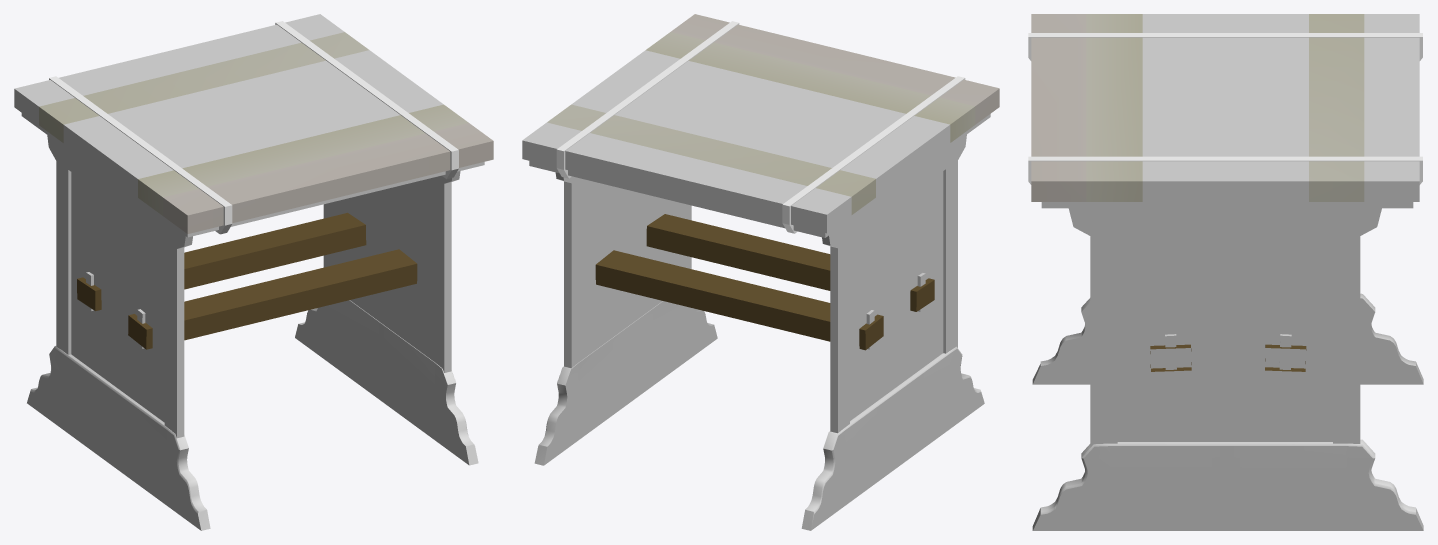
Rendered from table.glb.
The picture shows the model from 3 angles, left to right: view 1: azimuth 30°, elevation 25°; view 2: azimuth 150°, elevation 25°; view 3: azimuth 270°, elevation 25°; orthographic projection. The views are drawn at different scales.
Visible parts, largest first — view 1: Table_Large; view 2: Table_Large; view 3: Table_Large.
Part boxes in pixels (left/top/right/bottom): Table_Large: left=14, top=14, right=493, bottom=530; Table_Large: left=522, top=14, right=999, bottom=530; Table_Large: left=1028, top=14, right=1423, bottom=530.
Size of the model in its own units: 1 by 1 by 1.
